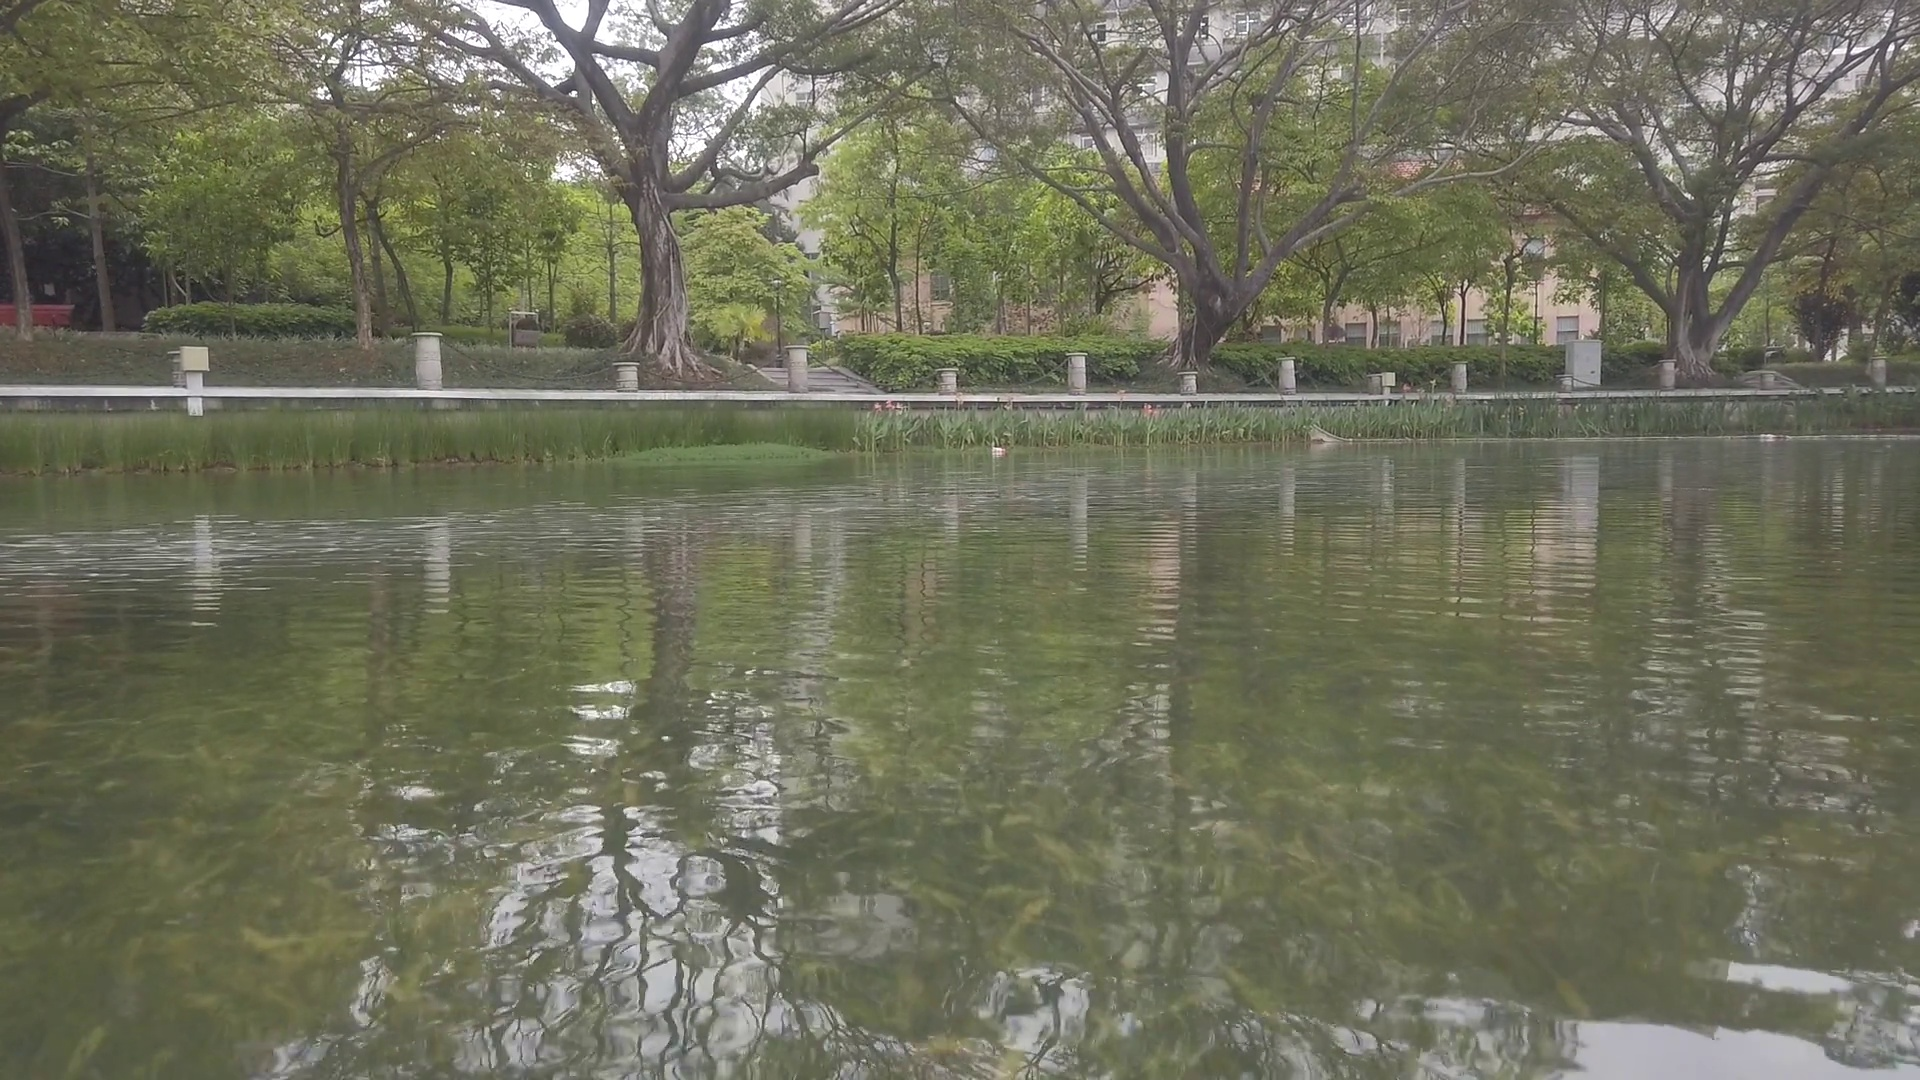bottle: (992, 444, 1007, 458), (1760, 434, 1776, 439)
